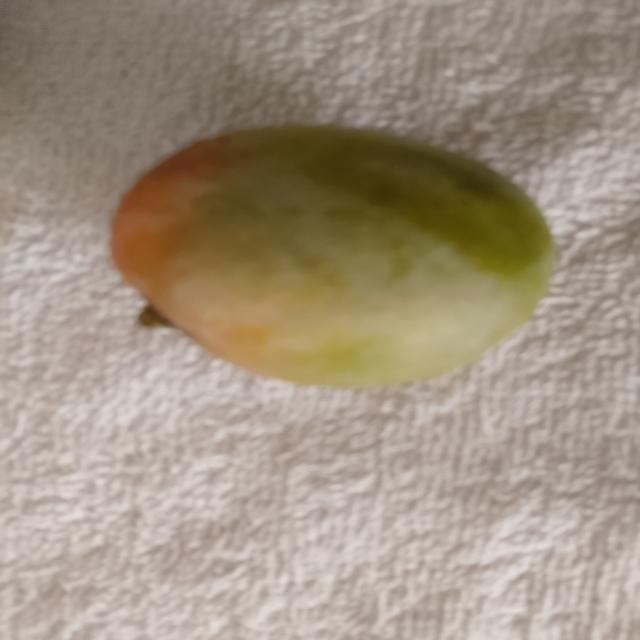mango: (112, 127, 552, 386)
